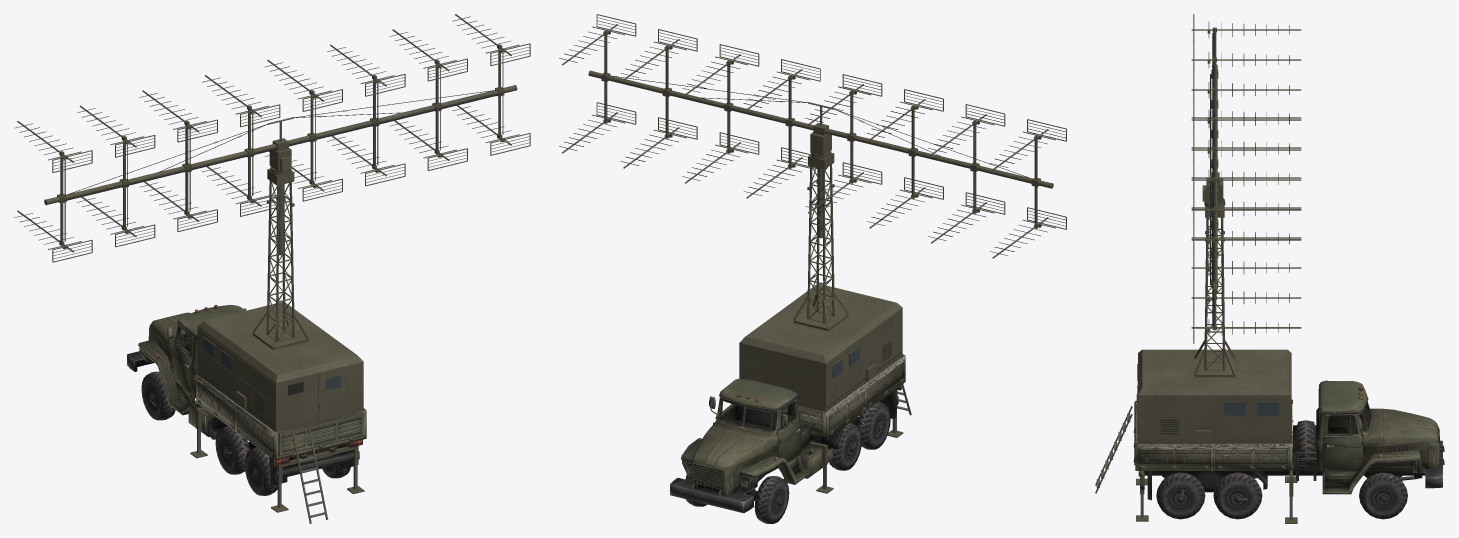
3 views of the same model, side by side, from view 1: azimuth 30°, elevation 25°; view 2: azimuth 150°, elevation 25°; view 3: azimuth 270°, elevation 25° (orthographic).
Visible parts, largest first — view 1: body|P18_atlas, radar|P18_atlas, body|Ural; view 2: body|Ural, radar|P18_atlas, body|P18_atlas; view 3: body|Ural, body|P18_atlas, radar|P18_atlas.
Boxes of the visible parts, bbox=[...] form: body|P18_atlas: bbox=[190, 168, 364, 523]; radar|P18_atlas: bbox=[14, 14, 530, 262]; body|Ural: bbox=[127, 305, 366, 495]; body|Ural: bbox=[670, 354, 905, 523]; radar|P18_atlas: bbox=[559, 14, 1066, 258]; body|P18_atlas: bbox=[739, 153, 911, 493]; body|Ural: bbox=[1133, 380, 1444, 519]; body|P18_atlas: bbox=[1095, 202, 1297, 523]; radar|P18_atlas: bbox=[1191, 14, 1301, 343].
Size of the model in its own units: 12.84 by 9.73 by 8.28.
3 materials, 3 textured.
